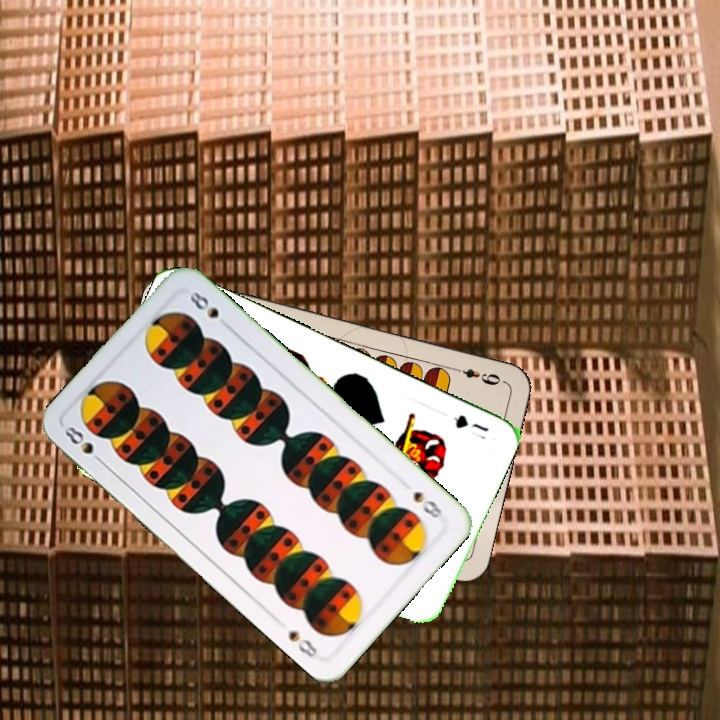E9: (448, 363, 507, 388)
GU: (449, 410, 492, 443)
S8: (60, 422, 109, 469), (409, 487, 446, 521)
